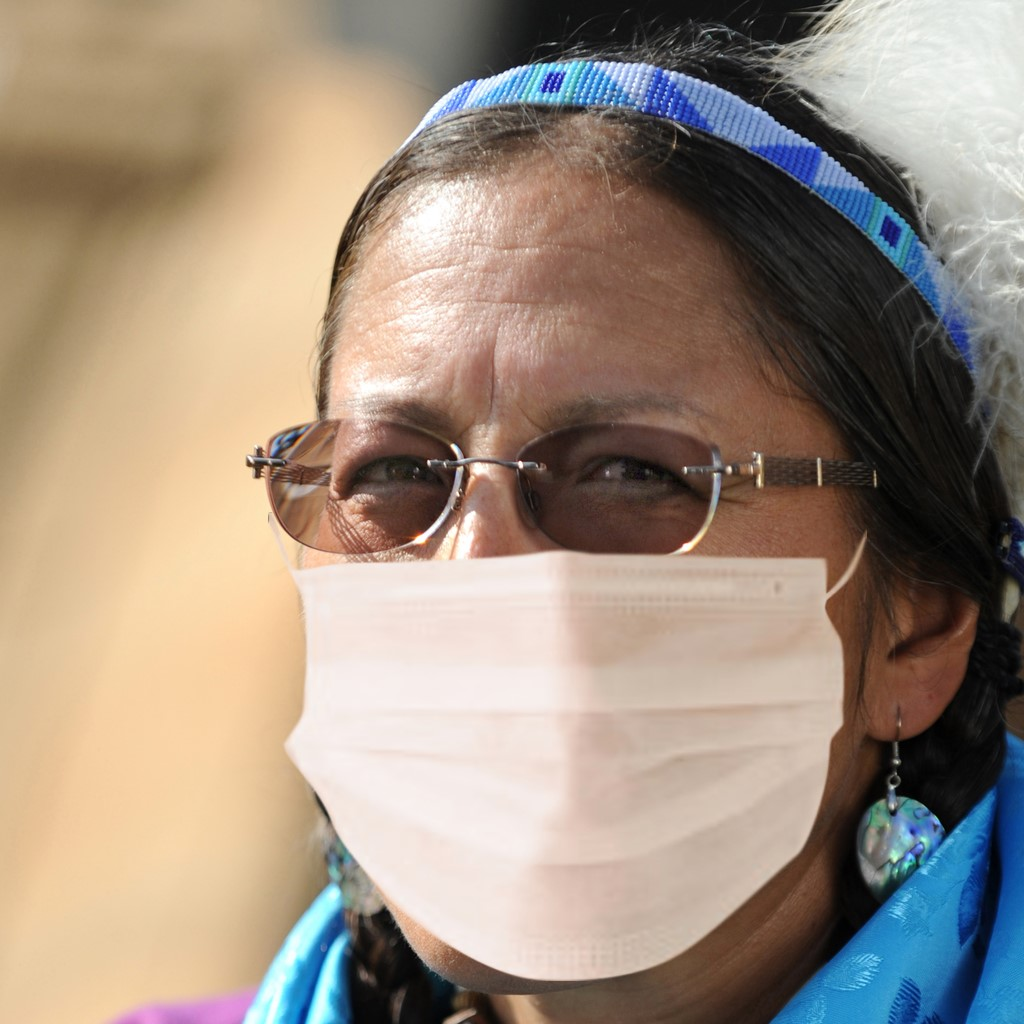con_mascara: (314, 168, 874, 970)
